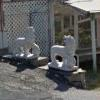Statue: (7, 25, 83, 73)
